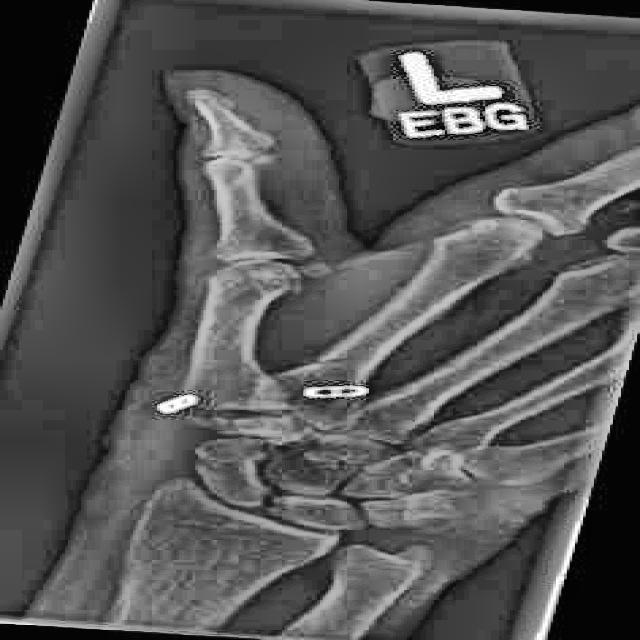fingers positive: (285, 340, 392, 384)
